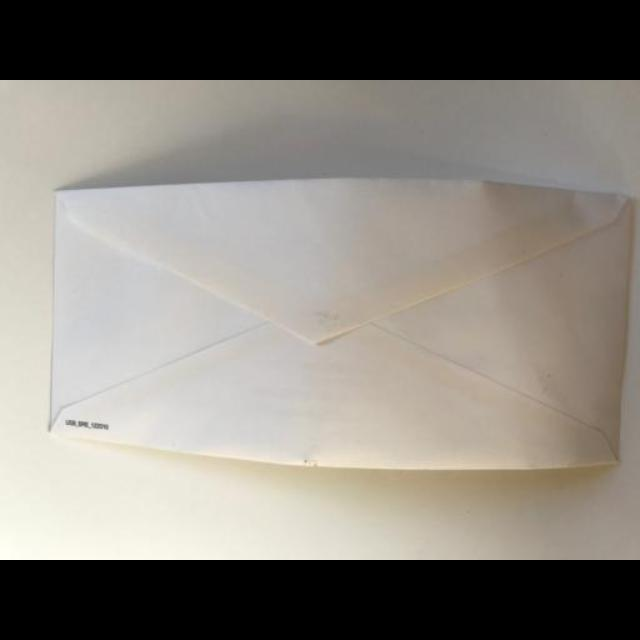papel: (49, 172, 630, 474)
